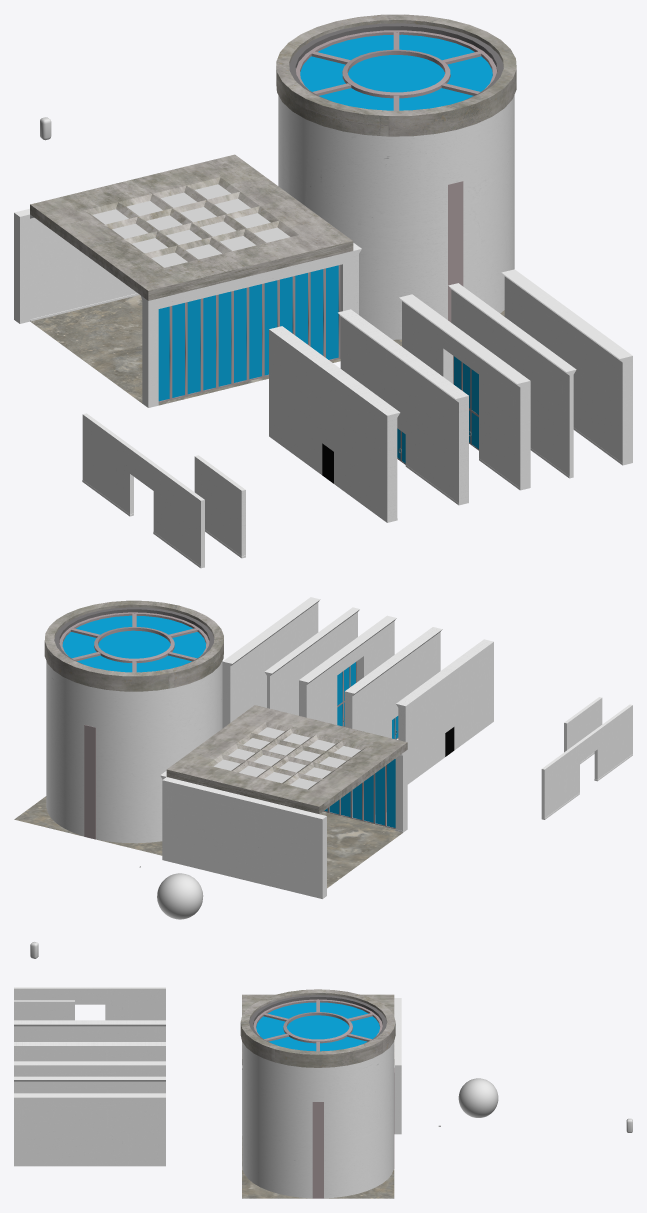
Rendered from modules.fbx.
3 renders of one model, top to bottom at view 1: azimuth 30°, elevation 25°; view 2: azimuth 150°, elevation 25°; view 3: azimuth 270°, elevation 25°, orthographic. The views are drawn at different scales.
Visible parts, largest first — view 1: rotonda, ceiling, circle_window, bigWindow, outerWallBlackRoom, OuterWallSmallDoor, outerWall, outerWallEntrance, innerWall, divider, floor, outerWall.001 (+5 smaller); view 2: rotonda, ceiling, circle_window, outerWall.001, outerWallBlackRoom, OuterWallSmallDoor, outerWall, divider, outerWallEntrance, innerWall, floor, bigWindow (+7 smaller); view 3: rotonda, outerWall, circle_window, divider, outerWallBlackRoom, OuterWallSmallDoor, innerWall, outerWallEntrance, shortDivider, Sphere, floor.002, Door.001 (+2 smaller).
Boxes of the visible parts, <box> form: rotonda: <box>278,95,514,339</box>; ceiling: <box>30,154,353,300</box>; circle_window: <box>276,14,516,136</box>; bigWindow: <box>158,265,340,402</box>; outerWallBlackRoom: <box>269,326,400,522</box>; OuterWallSmallDoor: <box>338,309,468,505</box>; outerWall: <box>501,269,632,465</box>; outerWallEntrance: <box>399,294,530,490</box>; innerWall: <box>448,283,576,478</box>; divider: <box>82,413,204,568</box>; floor: <box>30,295,340,405</box>; outerWall.001: <box>24,208,139,321</box>; rotonda: <box>46,661,222,843</box>; ceiling: <box>166,705,407,813</box>; circle_window: <box>44,600,223,691</box>; outerWall.001: <box>162,777,320,897</box>; outerWallBlackRoom: <box>396,639,493,784</box>; OuterWallSmallDoor: <box>344,627,442,738</box>; outerWall: <box>222,597,320,727</box>; divider: <box>541,704,632,819</box>; outerWallEntrance: <box>299,615,396,724</box>; innerWall: <box>265,607,359,715</box>; floor: <box>320,811,402,888</box>; bigWindow: <box>323,759,395,828</box>; rotonda: <box>242,1042,393,1198</box>; outerWall: <box>14,1093,165,1166</box>; circle_window: <box>240,989,395,1067</box>; divider: <box>14,987,165,1020</box>; outerWallBlackRoom: <box>14,1020,165,1041</box>; OuterWallSmallDoor: <box>14,1042,165,1061</box>; innerWall: <box>14,1076,165,1093</box>; outerWallEntrance: <box>14,1061,165,1076</box>; shortDivider: <box>14,1000,74,1020</box>; Sphere: <box>458,1078,498,1117</box>; floor.002: <box>242,1136,394,1198</box>; Door.001: <box>312,1102,323,1198</box>.
Bounding box in the file's own units: 5240 × 2215 × 8143.
